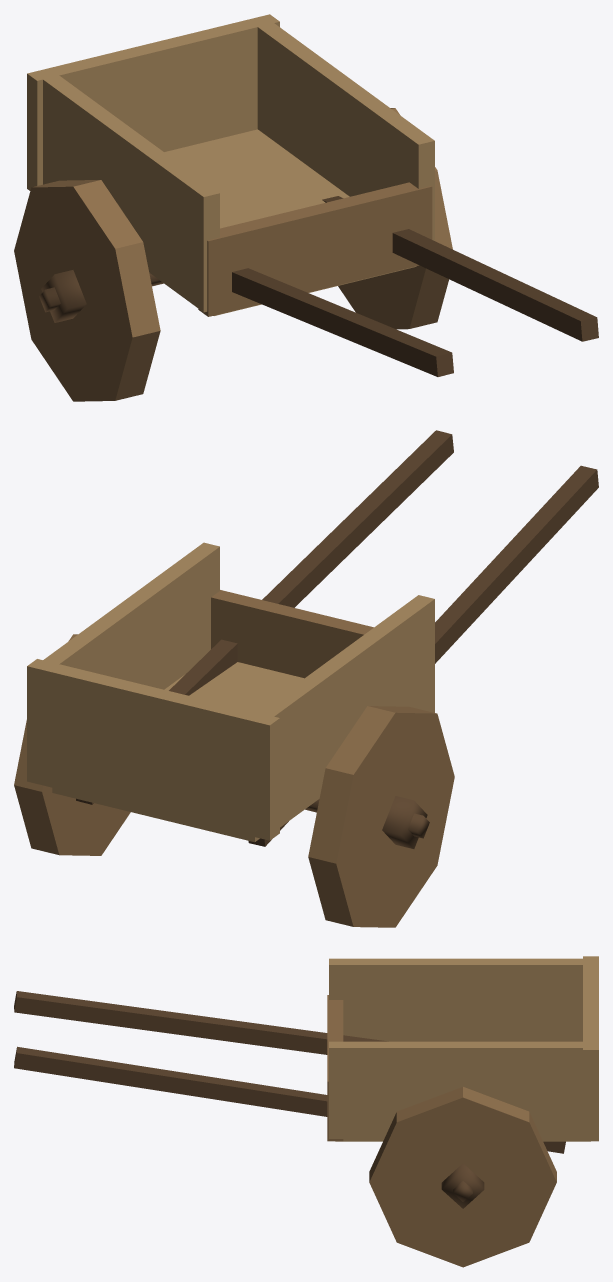
File: hand_cart_lod2.glb
The picture shows the model from 3 angles, top to bottom: view 1: azimuth 30°, elevation 25°; view 2: azimuth 150°, elevation 25°; view 3: azimuth 270°, elevation 25°; orthographic projection. The views are drawn at different scales.
Visible parts, largest first — view 1: CartBody.001, WheelLeft.001, WheelRight.001; view 2: CartBody.001, WheelLeft.001, WheelRight.001; view 3: CartBody.001, WheelRight.001.
Part boxes in pixels (<box>): CartBody.001: <box>27,14,598,376</box>; WheelLeft.001: <box>14,180,160,401</box>; WheelRight.001: <box>338,108,452,329</box>; CartBody.001: <box>27,430,598,846</box>; WheelLeft.001: <box>308,706,454,927</box>; WheelRight.001: <box>14,634,130,855</box>; CartBody.001: <box>14,956,598,1201</box>; WheelRight.001: <box>369,1087,556,1267</box>.
Size of the model in its own units: 1.62 by 1.05 by 2.74.
